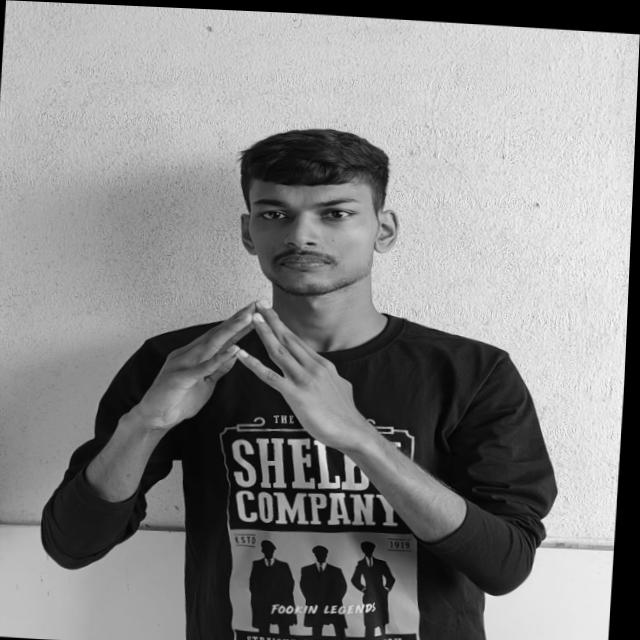Home: (152, 292, 371, 454)
